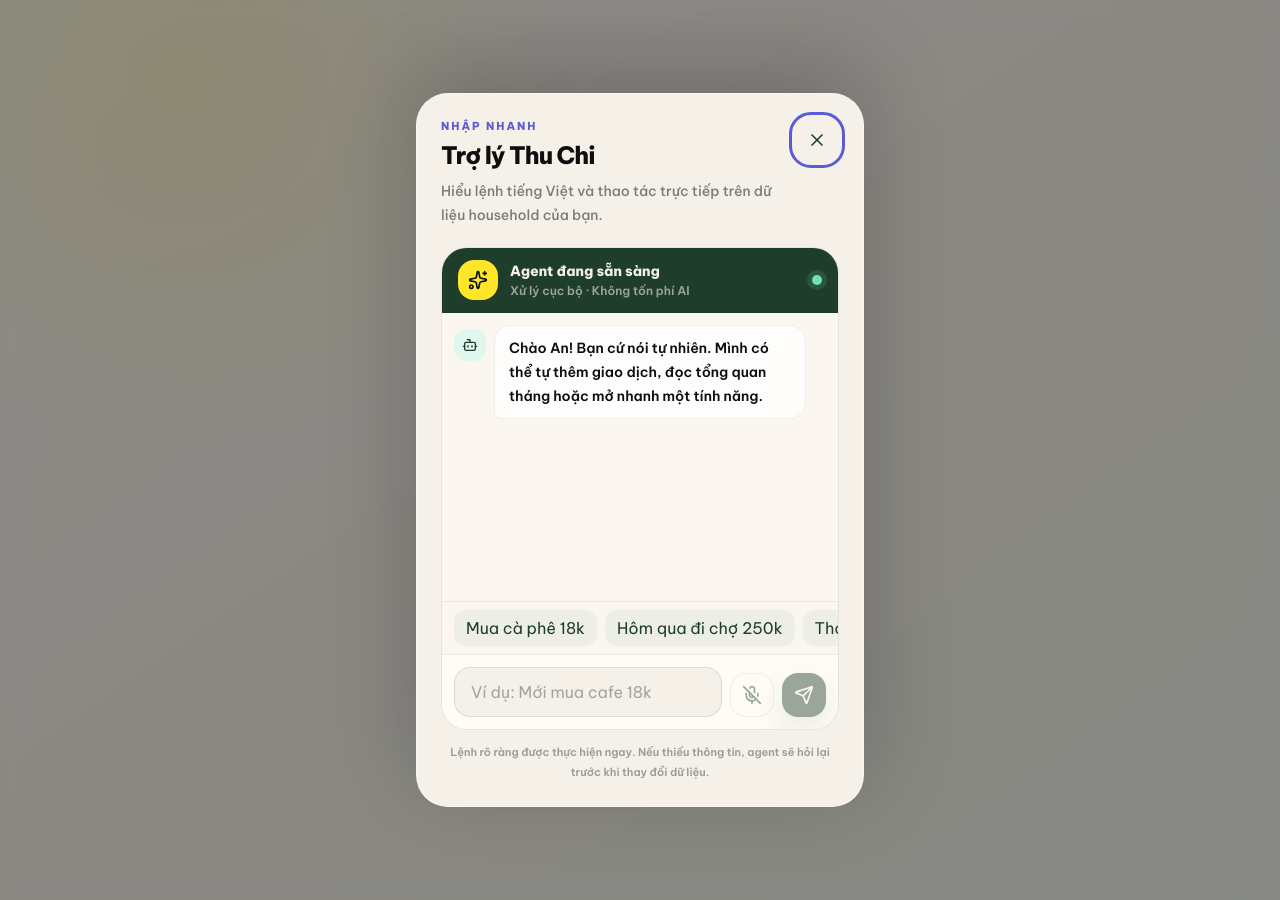
AssistantChat › liệt kê các khoản đã chi hôm nay
Type "Hôm nay tôi đã chi những gì?" into the field named "Nhắn cho trợ lý Thu Chi" at (588, 692), box [454,667,722,717]
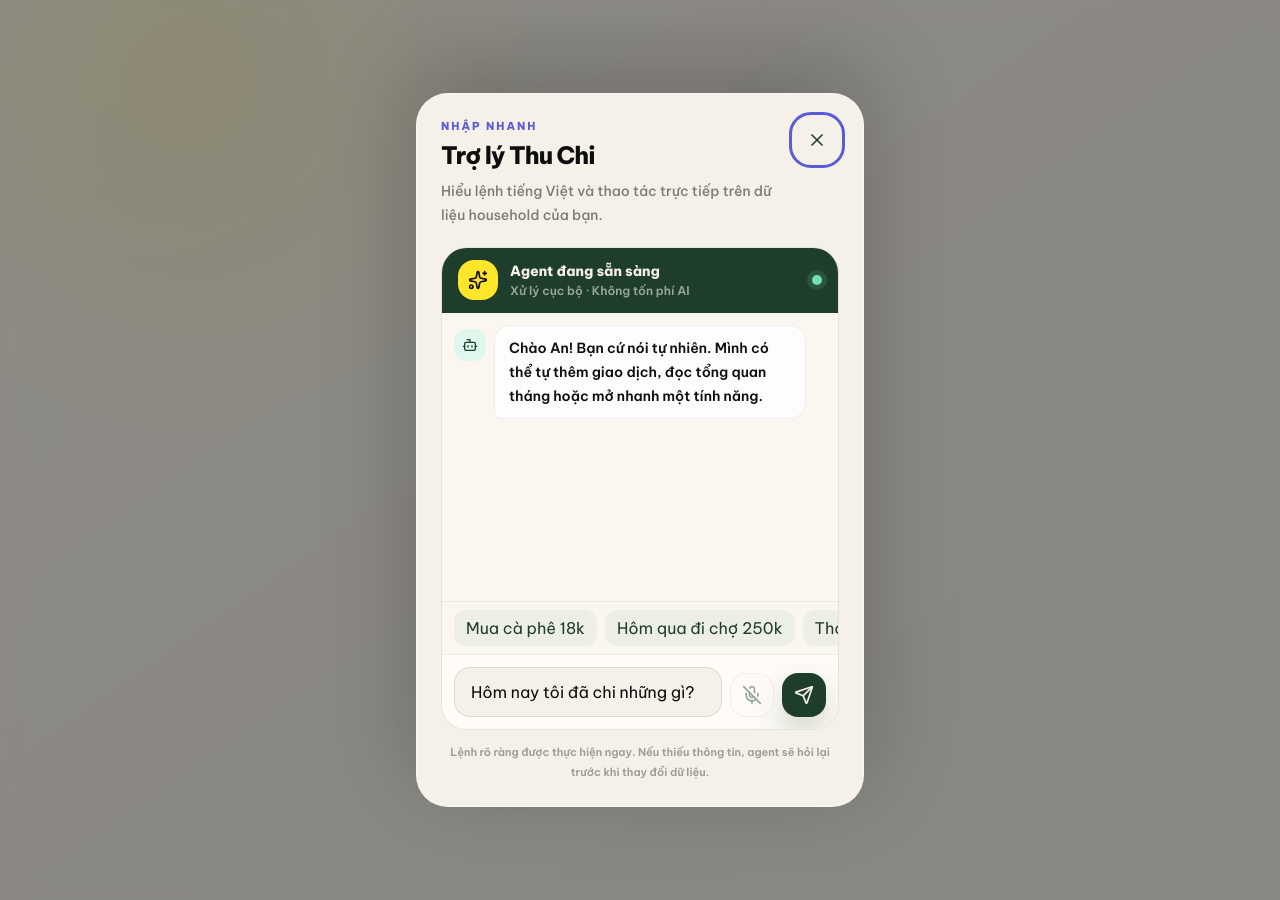
Click the button named "Gửi lệnh" at (804, 695), box [782,673,826,717]
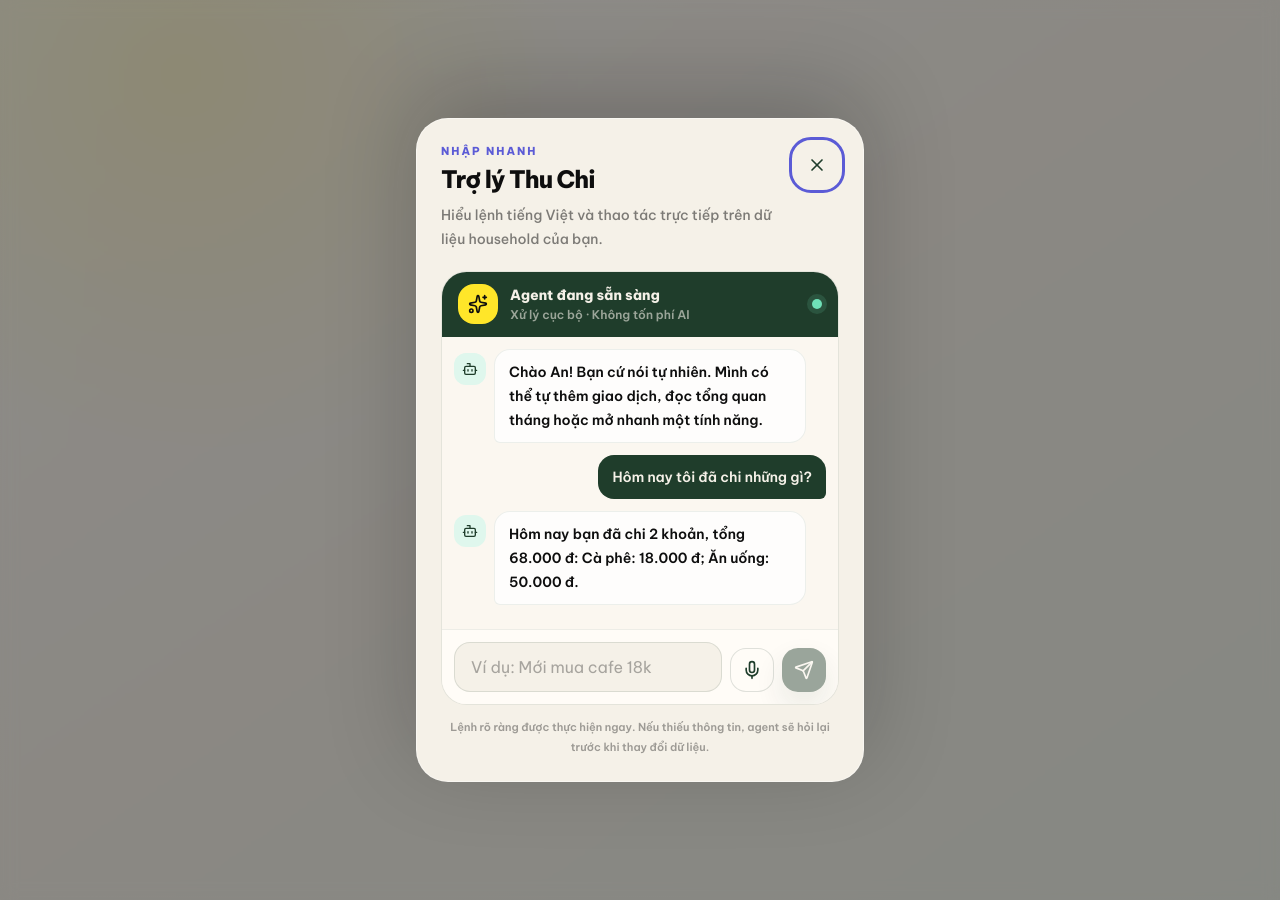
Expected: the text "Cà phê: 18.000 đ; Ăn uống: 50.000 đ" is shown, [509,525,769,591]
